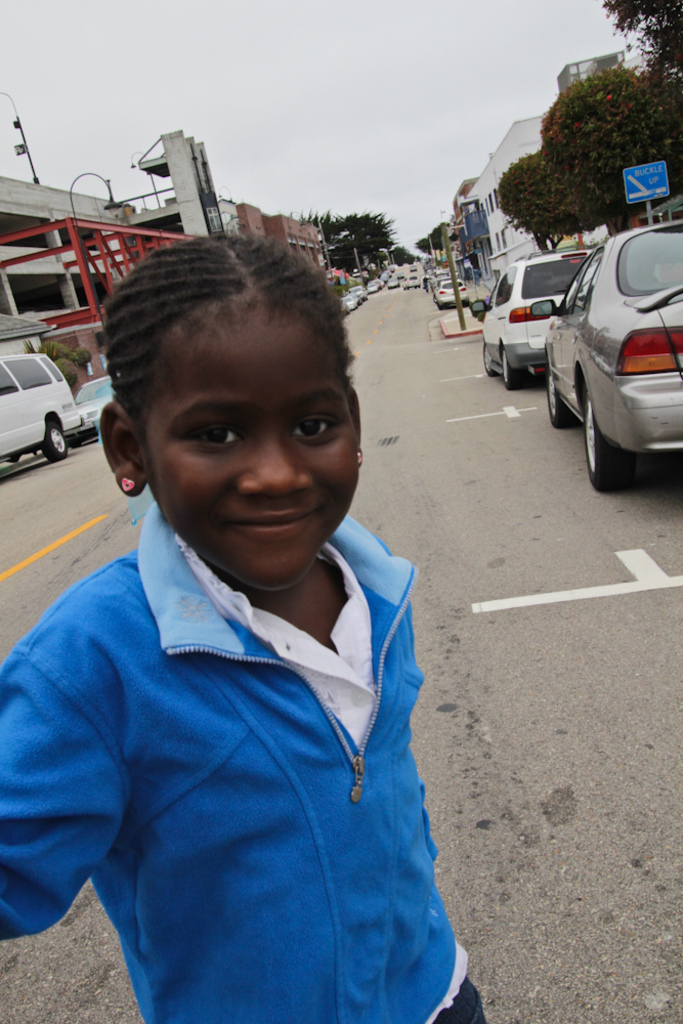cars: (543, 213, 683, 493), (472, 244, 603, 391), (0, 349, 81, 463), (344, 261, 469, 310), (73, 377, 123, 433)
